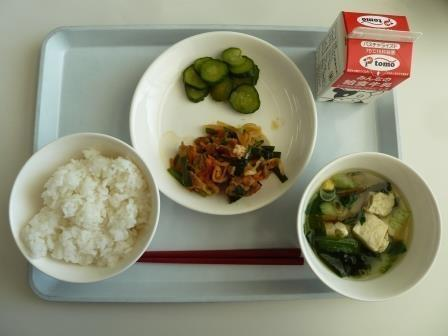Milk: (316, 8, 419, 107)
Rice: (16, 133, 158, 270)
Salad: (177, 40, 271, 116)
Soups: (296, 159, 435, 291)
vegetable based cooked food: (176, 117, 281, 197)
